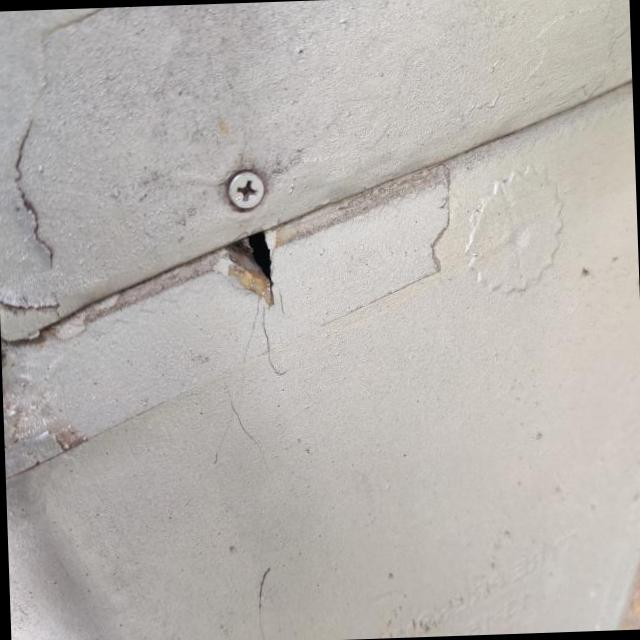Crack: (196, 232, 272, 305)
